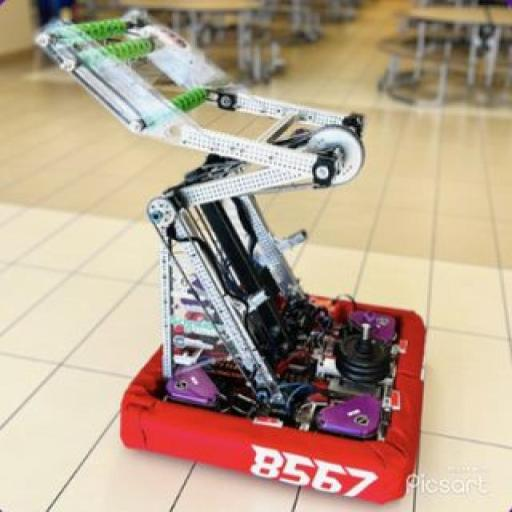robot: (32, 2, 432, 505)
